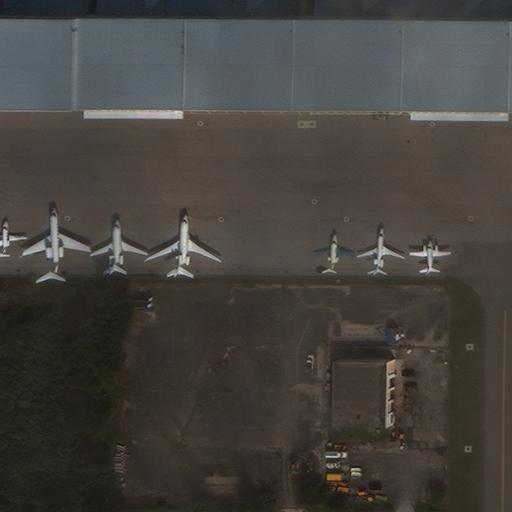Medium Civil Transport: (141, 213, 221, 278), (22, 207, 91, 281), (88, 217, 146, 275), (356, 226, 404, 276)
Small Civil Transport: (315, 233, 353, 272), (408, 240, 450, 273), (0, 221, 28, 259)
